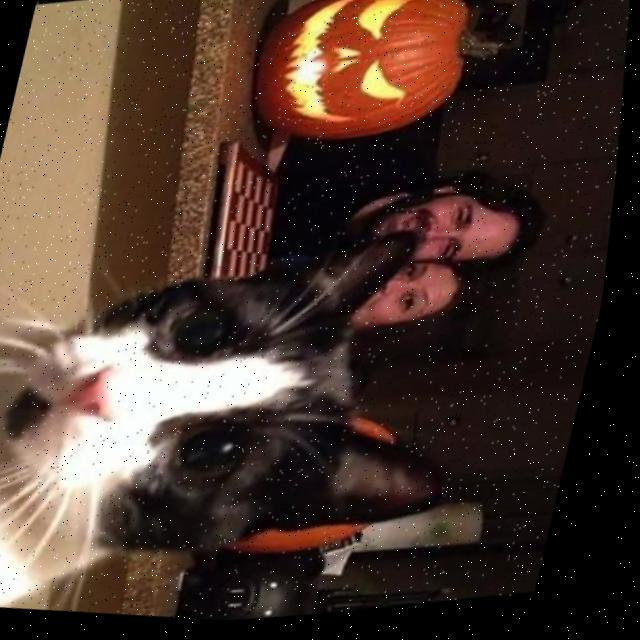Cats: (0, 160, 517, 640)
